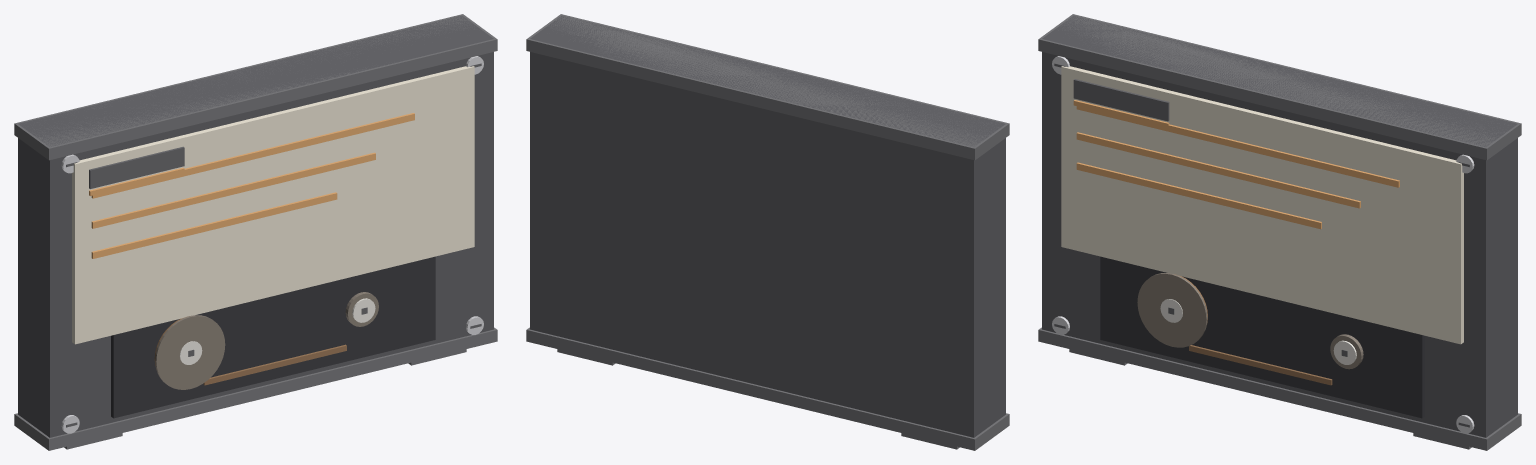
File: side-b.glb
The picture shows the model from 3 angles, left to right: view 1: azimuth 30°, elevation 25°; view 2: azimuth 150°, elevation 25°; view 3: azimuth 330°, elevation 25°; orthographic projection.
Visible parts, largest first — view 1: geometry_5, geometry_2, geometry_11, geometry_3, geometry_4, geometry_13, geometry_6, geometry_7, geometry_8, geometry_9, geometry_19, geometry_16; view 2: geometry_2, geometry_3, geometry_4; view 3: geometry_5, geometry_2, geometry_11, geometry_3, geometry_4, geometry_13, geometry_6, geometry_7, geometry_8, geometry_9, geometry_19, geometry_16.
Boxes of the visible parts, left/top/right/bottom form: geometry_5: left=72, top=66, right=474, bottom=344; geometry_2: left=18, top=15, right=493, bottom=437; geometry_11: left=111, top=256, right=435, bottom=418; geometry_3: left=14, top=14, right=497, bottom=160; geometry_4: left=14, top=327, right=497, bottom=450; geometry_13: left=155, top=315, right=225, bottom=389; geometry_6: left=91, top=113, right=414, bottom=198; geometry_7: left=91, top=152, right=375, bottom=228; geometry_8: left=91, top=192, right=337, bottom=258; geometry_9: left=89, top=146, right=184, bottom=188; geometry_19: left=203, top=344, right=346, bottom=385; geometry_16: left=345, top=292, right=378, bottom=326; geometry_2: left=530, top=15, right=1005, bottom=437; geometry_3: left=526, top=14, right=1009, bottom=160; geometry_4: left=526, top=327, right=1009, bottom=450; geometry_5: left=1061, top=66, right=1463, bottom=344; geometry_2: left=1042, top=15, right=1517, bottom=437; geometry_11: left=1100, top=256, right=1424, bottom=418; geometry_3: left=1038, top=14, right=1521, bottom=160; geometry_4: left=1038, top=327, right=1521, bottom=450; geometry_13: left=1137, top=273, right=1207, bottom=347; geometry_6: left=1076, top=103, right=1399, bottom=187; geometry_7: left=1076, top=132, right=1360, bottom=208; geometry_8: left=1076, top=162, right=1321, bottom=229; geometry_9: left=1073, top=79, right=1169, bottom=121; geometry_19: left=1189, top=345, right=1332, bottom=385; geometry_16: left=1330, top=334, right=1363, bottom=369.
Bounding box in the file's own units: 4.04 × 2.68 × 0.615.
